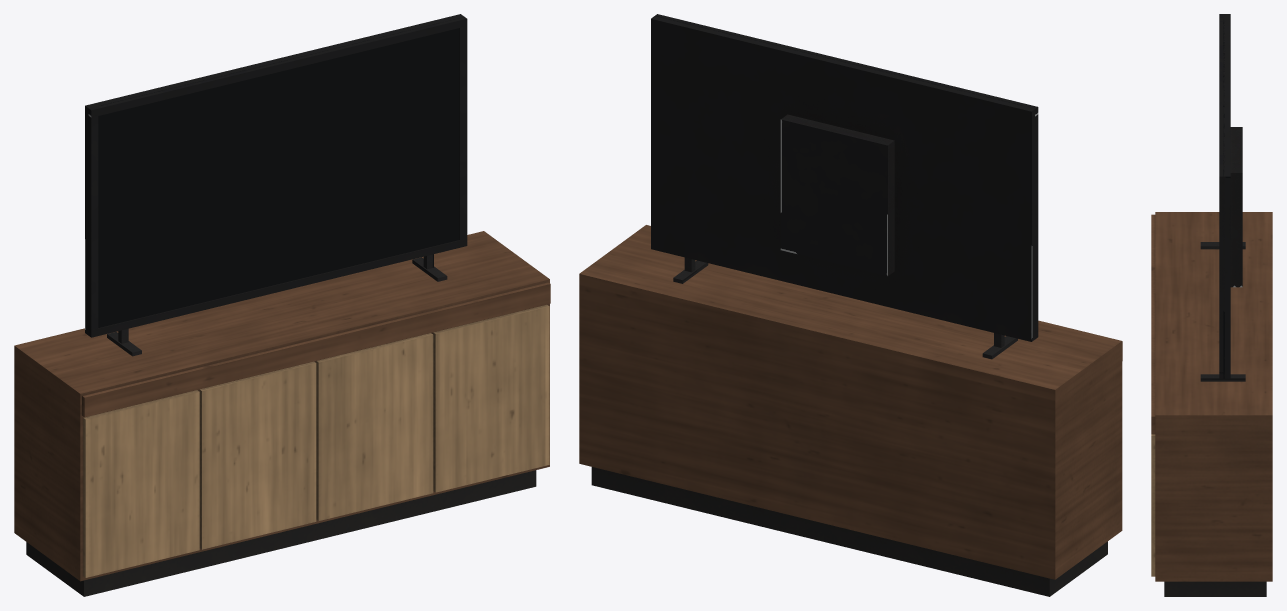
File: H_TVConsole_WithTV.fbx
3 renders of one model, left to right at view 1: azimuth 30°, elevation 25°; view 2: azimuth 150°, elevation 25°; view 3: azimuth 270°, elevation 25°, orthographic. The views are drawn at different scales.
Visible parts, largest first — view 1: H_TVConsole_WithTV__H_TVConsole, H_TVConsole_WithTV__H_TV_Screen, H_TVConsole_WithTV__H_TV; view 2: H_TVConsole_WithTV__H_TVConsole, H_TVConsole_WithTV__H_TV; view 3: H_TVConsole_WithTV__H_TVConsole, H_TVConsole_WithTV__H_TV.
Boxes of the visible parts, bbox=[...] form: H_TVConsole_WithTV__H_TVConsole: bbox=[14, 231, 550, 596]; H_TVConsole_WithTV__H_TV_Screen: bbox=[98, 28, 459, 327]; H_TVConsole_WithTV__H_TV: bbox=[85, 14, 467, 356]; H_TVConsole_WithTV__H_TVConsole: bbox=[579, 225, 1122, 596]; H_TVConsole_WithTV__H_TV: bbox=[651, 14, 1038, 359]; H_TVConsole_WithTV__H_TVConsole: bbox=[1151, 212, 1272, 596]; H_TVConsole_WithTV__H_TV: bbox=[1200, 14, 1245, 381].
Size of the model in its own units: 800 by 740 by 202.
Materials: 2 (2 with a texture image).
